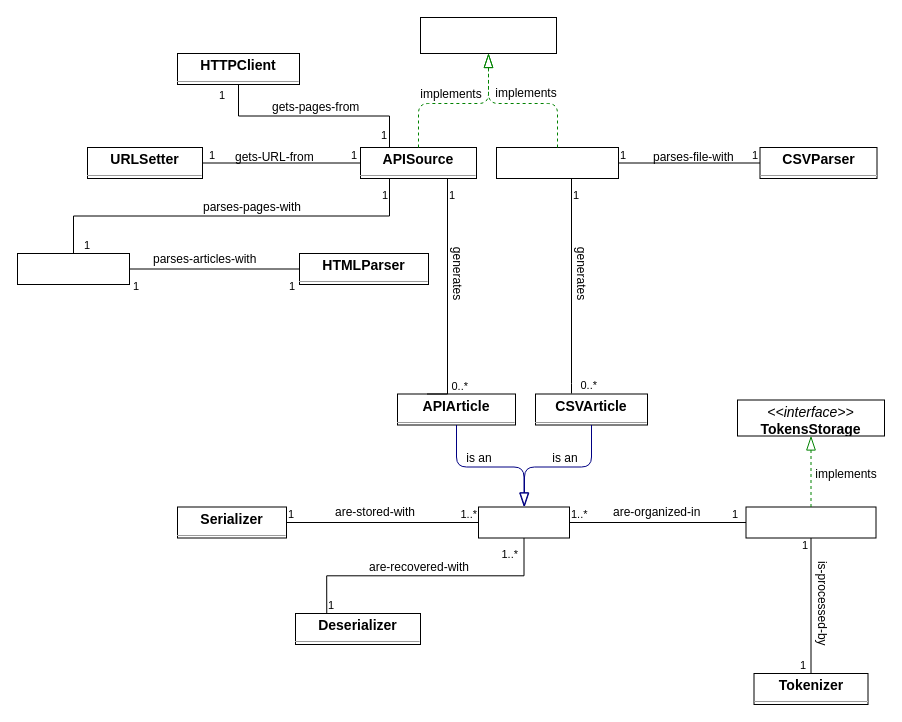
Image size: 902x722. Some labels were removed from this diagram. The box of each missing label's shape, as (x1, y1, x2, y2) in pixels:
<<interface>> ArticleSource: (420, 16, 556, 54)
APIParser: (16, 252, 130, 284)
Article: (478, 506, 570, 538)
CSVSource: (496, 146, 618, 178)
TreeStorage: (745, 506, 876, 538)
